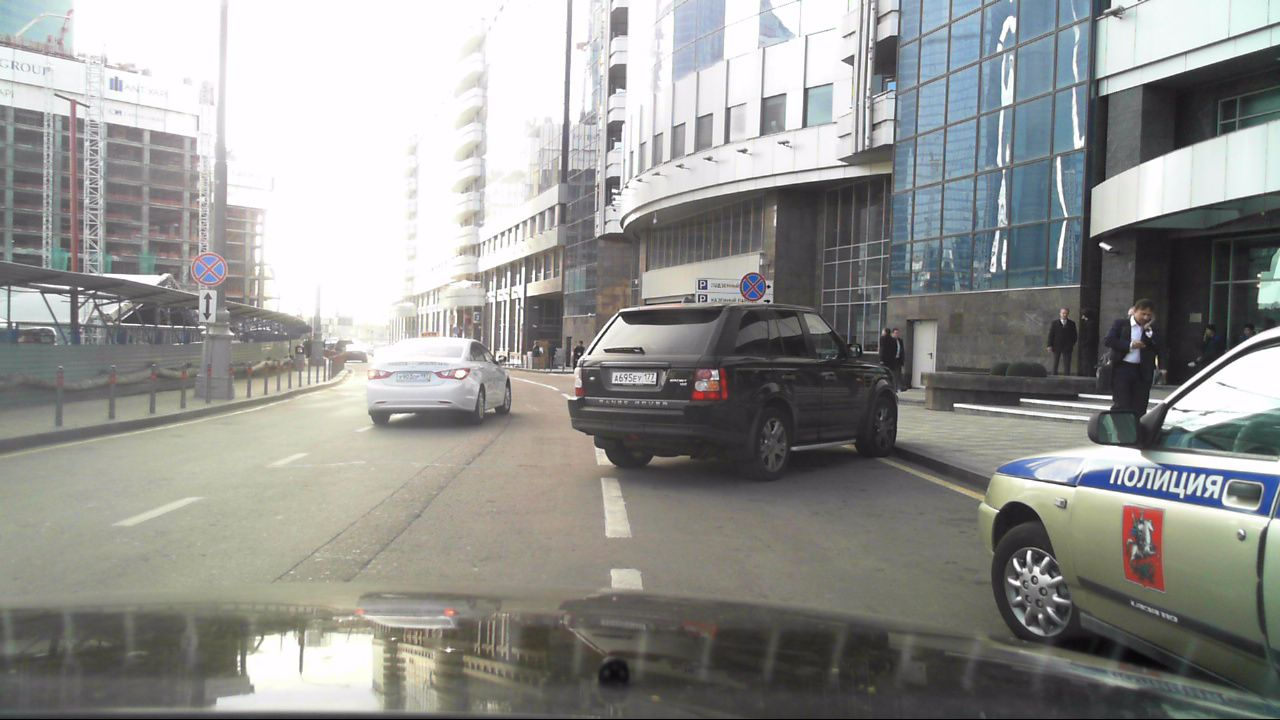No Parking: (738, 271, 767, 304)
